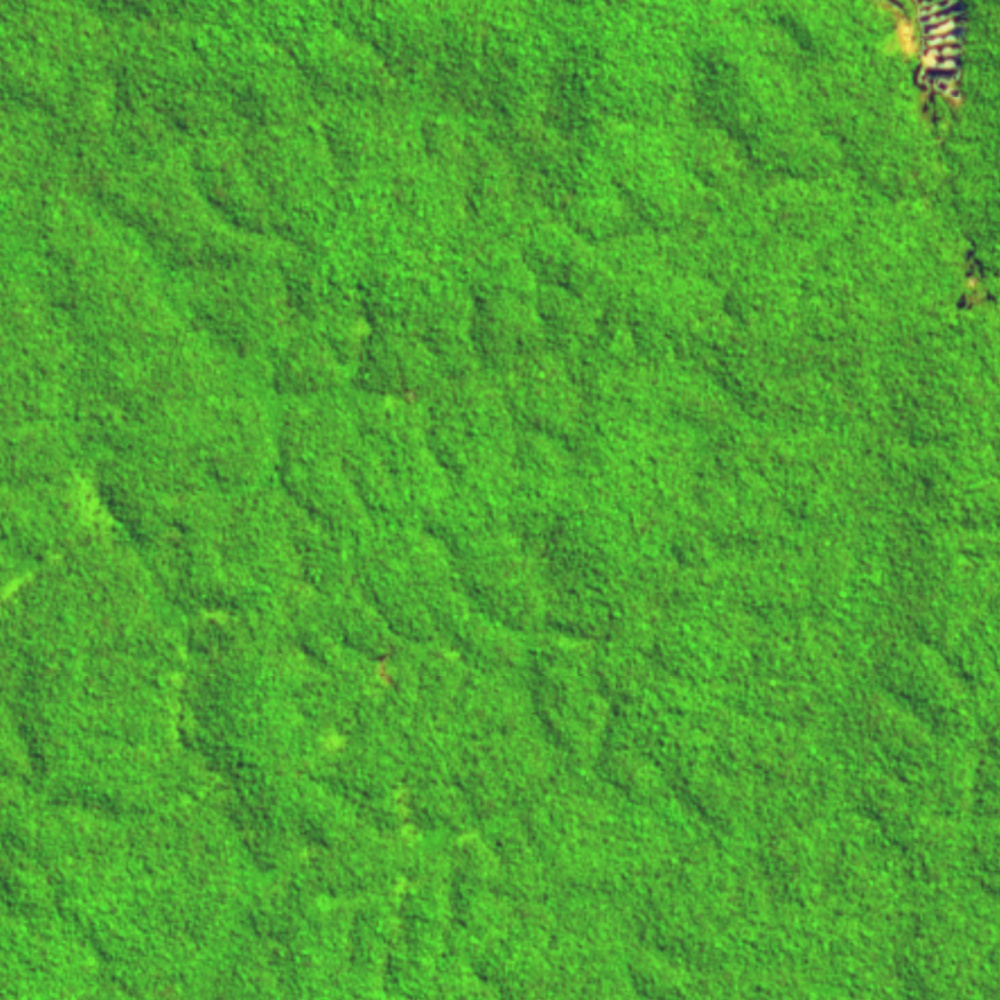illegal: (870, 1, 978, 149), (951, 233, 1000, 314), (368, 642, 403, 691)
